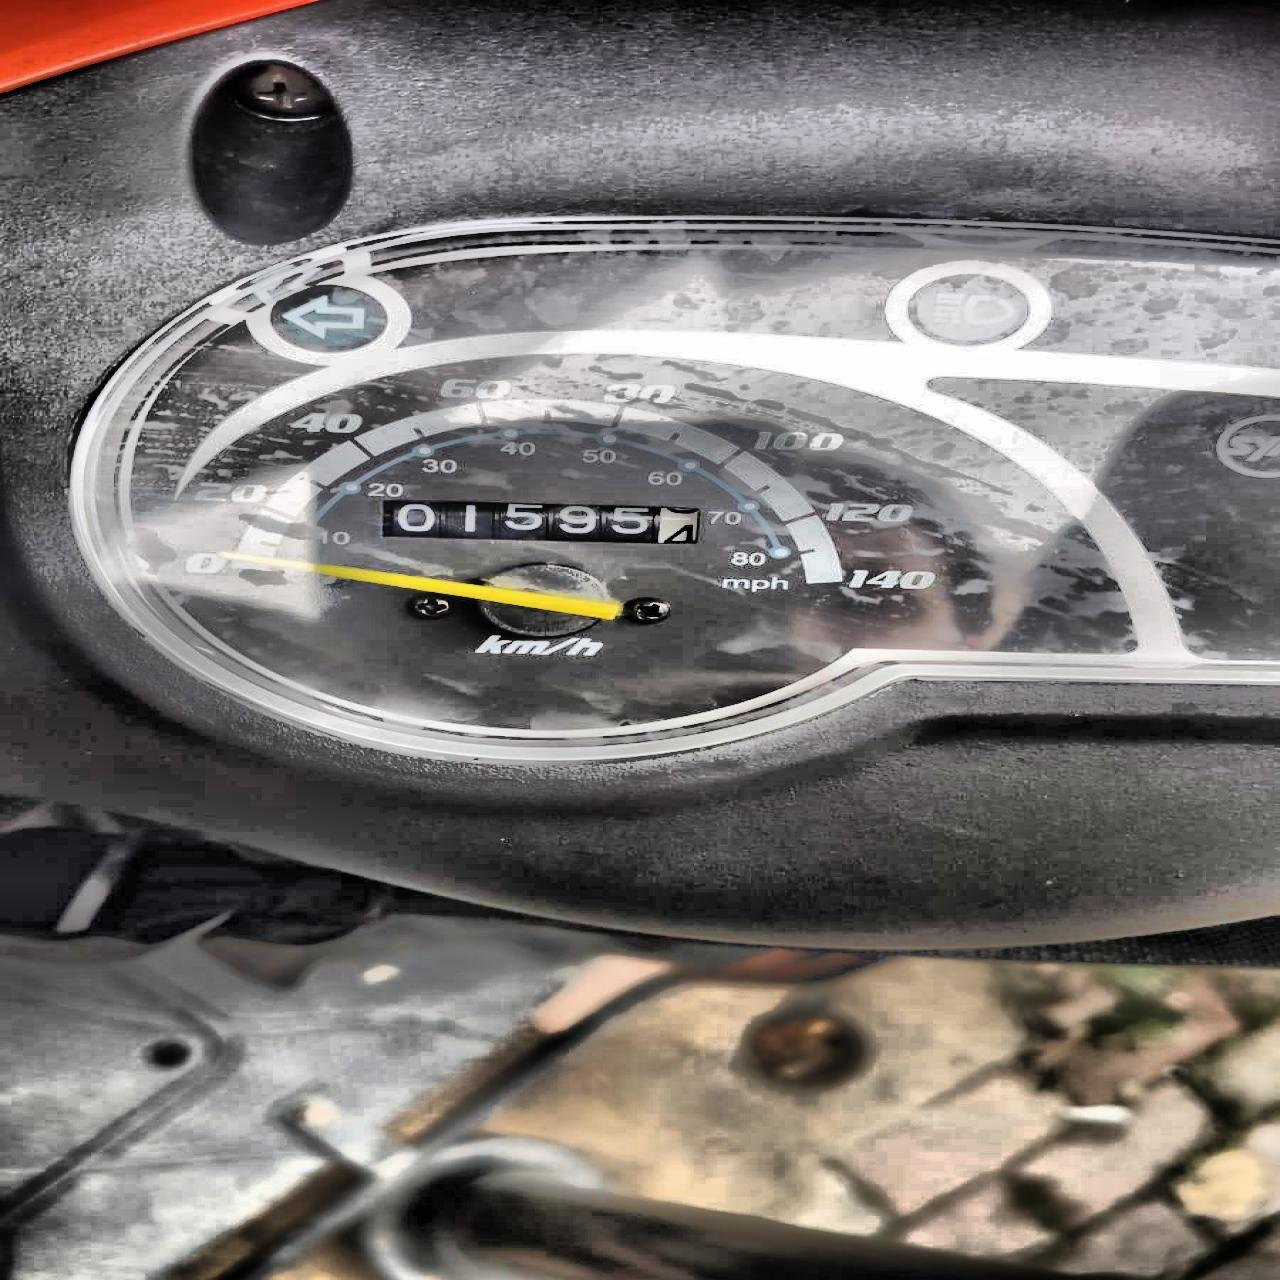0: (395, 503, 434, 531)
1: (462, 504, 475, 531)
4: (663, 523, 697, 549)
5: (504, 503, 544, 531), (611, 506, 648, 533)
9: (558, 504, 594, 533)
odometer: (377, 496, 707, 549)
